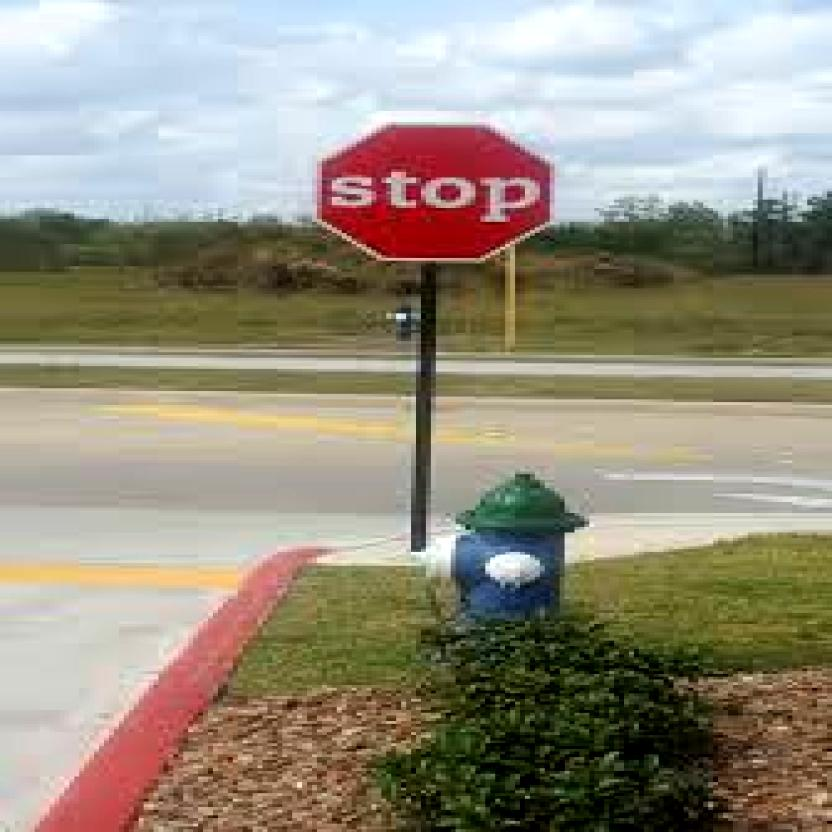Pole: (416, 264, 444, 546)
Sign: (322, 122, 556, 263)
